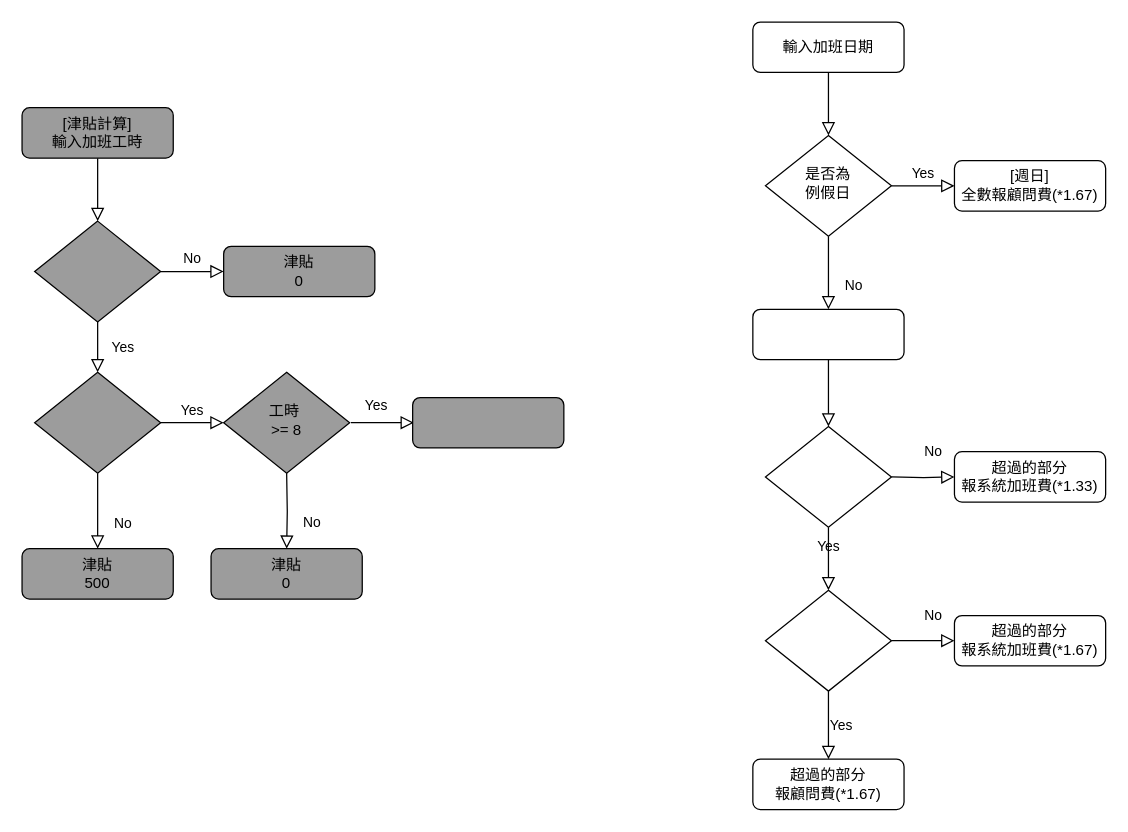
This 1128x832 diagram has some shape labels left out. Each missing label, with the box of its shape:
工時 >= 4: (33, 220, 161, 322)
是否為六日: (33, 371, 161, 473)
津貼 1000: (411, 396, 564, 448)
超過工時 > 2: (764, 425, 891, 527)
超過工時 > 4: (764, 589, 891, 691)
輸入加班工時: (752, 308, 904, 360)
